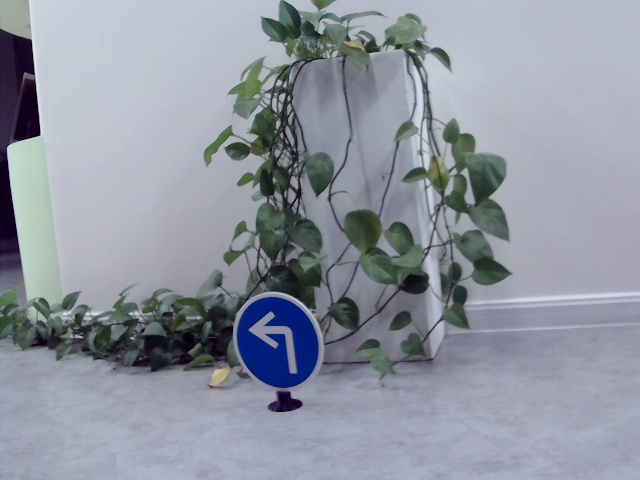turn_left: (249, 307, 301, 376)
